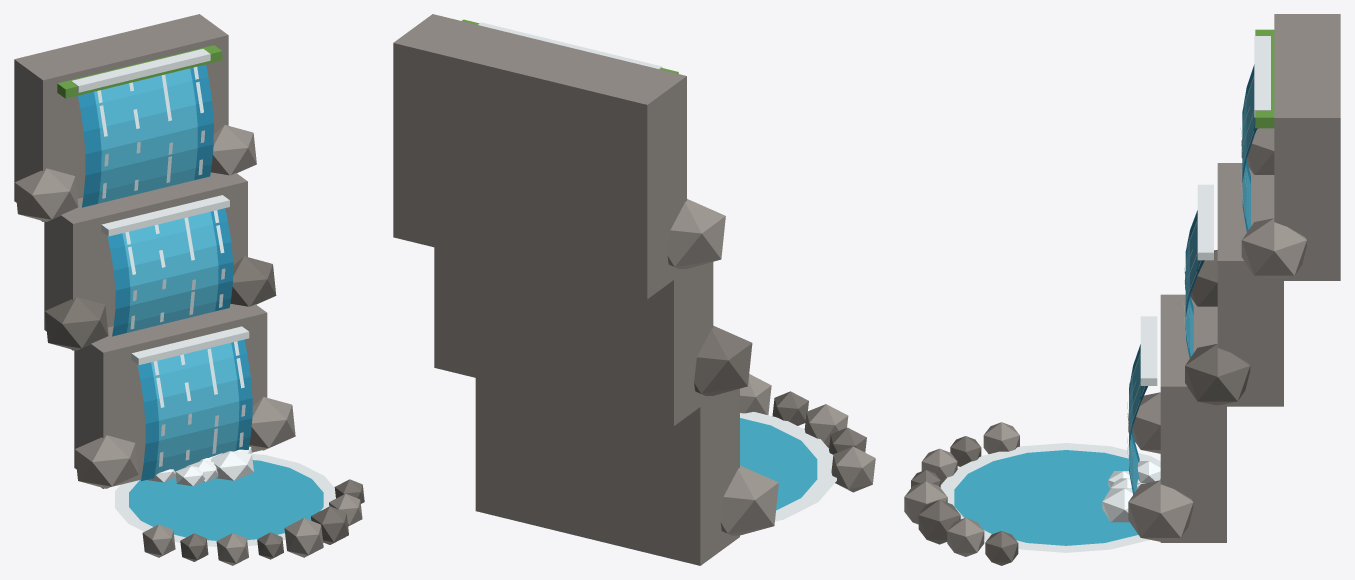
The model's file is cascade.glb.
3 views of the same model, side by side, from view 1: azimuth 30°, elevation 25°; view 2: azimuth 150°, elevation 25°; view 3: azimuth 270°, elevation 25° (orthographic). The views are drawn at different scales.
Visible parts, largest first — view 1: cascade; view 2: cascade; view 3: cascade.
Part boxes in pixels (left/top/right/bottom): cascade: left=14, top=14, right=364, bottom=565; cascade: left=393, top=14, right=875, bottom=565; cascade: left=904, top=14, right=1340, bottom=565.
Size of the model in its own units: 6.61 by 10.54 by 9.22.
